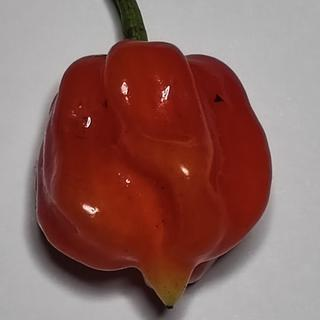Fly-bites: (208, 86, 230, 116), (96, 95, 117, 113)
